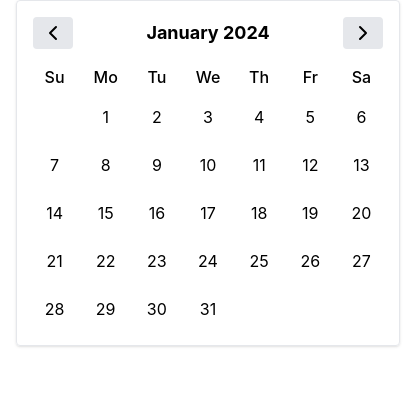
Test: Calendar › Navigation › navigates multiple months correctly
The width and height of the screenshot is (417, 412).
# Navigate to February
Click the button named "Next Month" at (363, 33), box [343, 17, 383, 49]
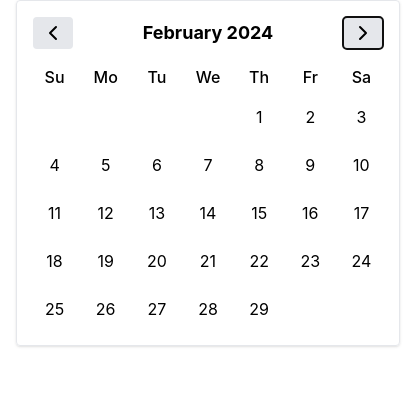
Expected: the heading "February 2024" is shown, [143, 19, 273, 47]
# Navigate to March
Click the button named "Next Month" at (363, 33), box [343, 17, 383, 49]
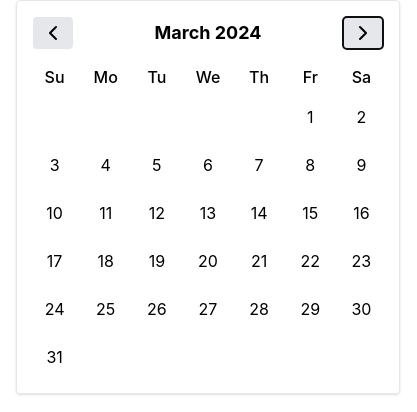
Expected: the heading "March 2024" is shown, [155, 19, 262, 47]
